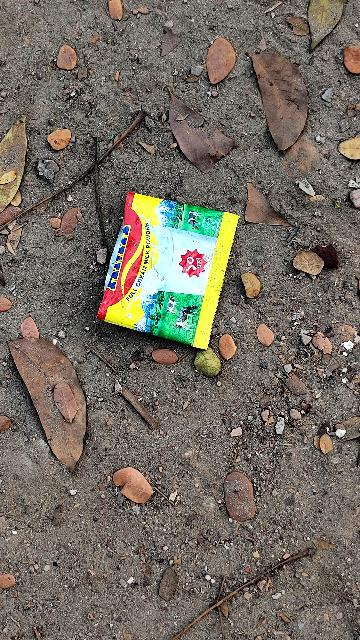packet: (88, 178, 245, 344)
